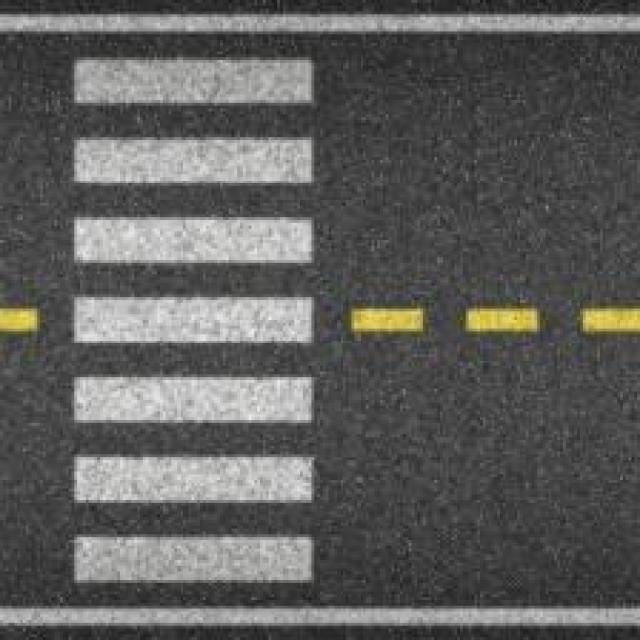crosswalk: (60, 50, 328, 640)
